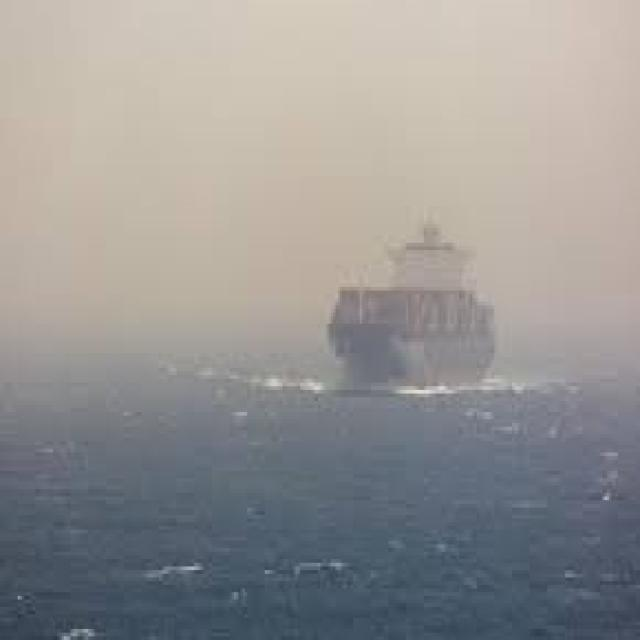cargoship: (322, 202, 524, 401)
